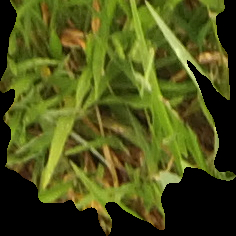grass: (1, 1, 235, 234)
